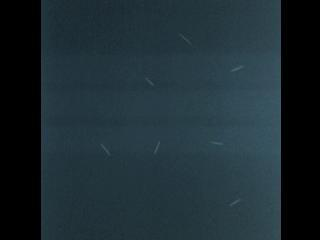scratch: (178, 32, 198, 50), (95, 140, 113, 159), (227, 62, 249, 76), (227, 191, 245, 207), (148, 138, 162, 157), (205, 138, 227, 148), (143, 74, 158, 88)
